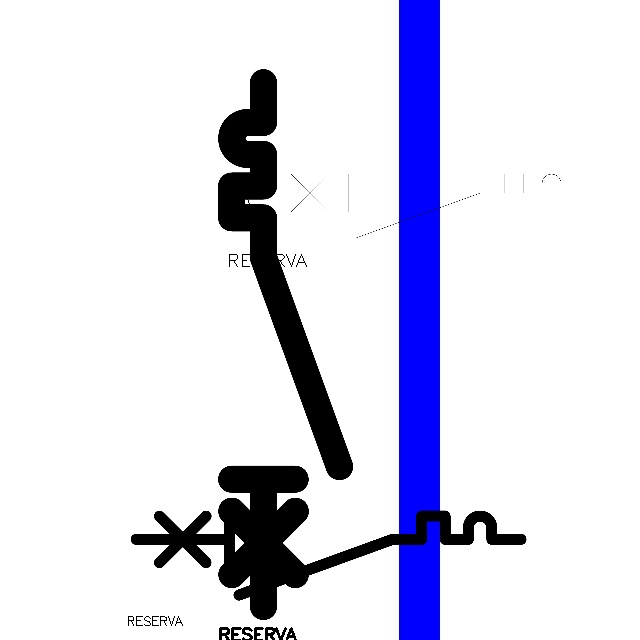interruptor_termomagnetico: (218, 69, 353, 620), (126, 506, 531, 605), (264, 166, 593, 246)
